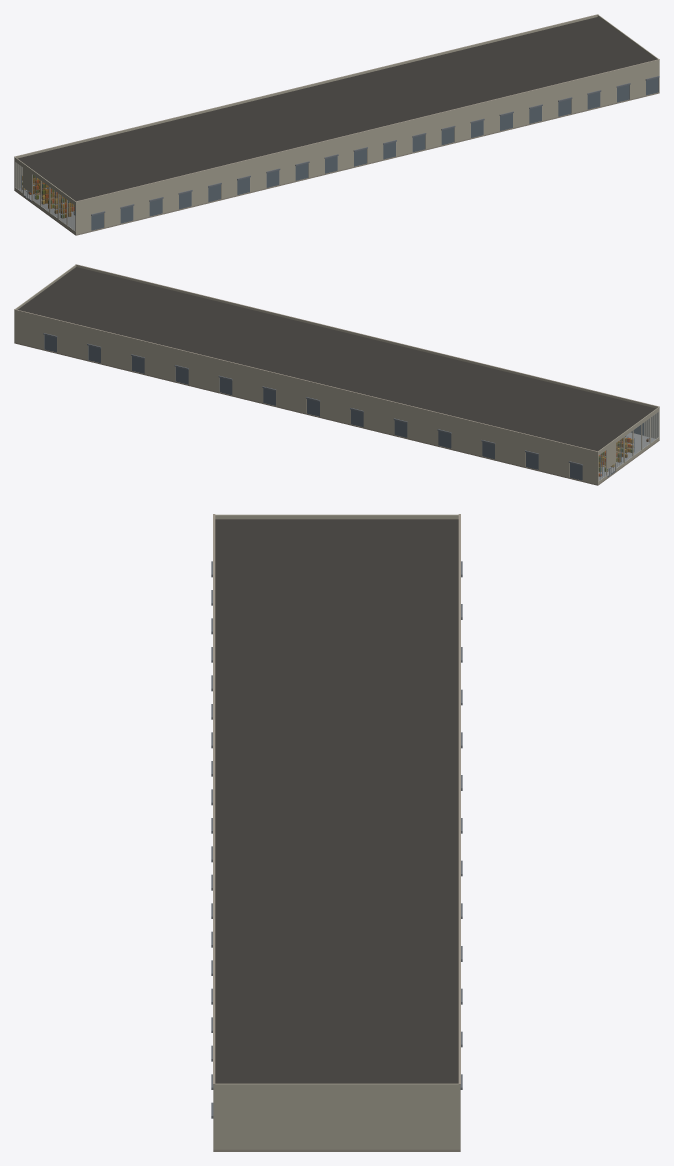
The model's file is transit_shed.glb.
The picture shows the model from 3 angles, top to bottom: view 1: azimuth 30°, elevation 25°; view 2: azimuth 150°, elevation 25°; view 3: azimuth 270°, elevation 25°; orthographic projection. The views are drawn at different scales.
Visible parts, largest first — view 1: LOD0, FURN; view 2: LOD0, FURN; view 3: LOD0.
Boxes of the visible parts, x1,y1,x2,y2 form: LOD0: (14, 14, 659, 235); FURN: (21, 175, 75, 218); LOD0: (14, 264, 659, 485); FURN: (598, 436, 649, 476); LOD0: (211, 514, 462, 1151).
Size of what is drawn, in the model's own units: 240 by 13.33 by 44.7.
